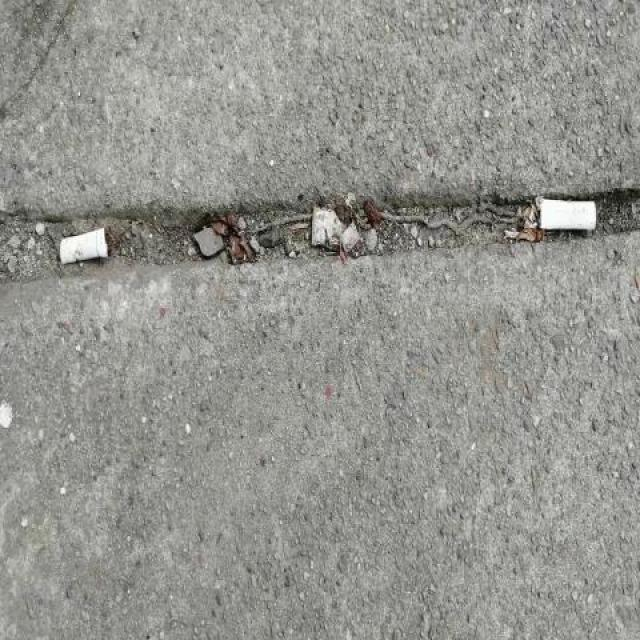non-organic waste: (531, 193, 609, 235), (57, 225, 116, 270)
